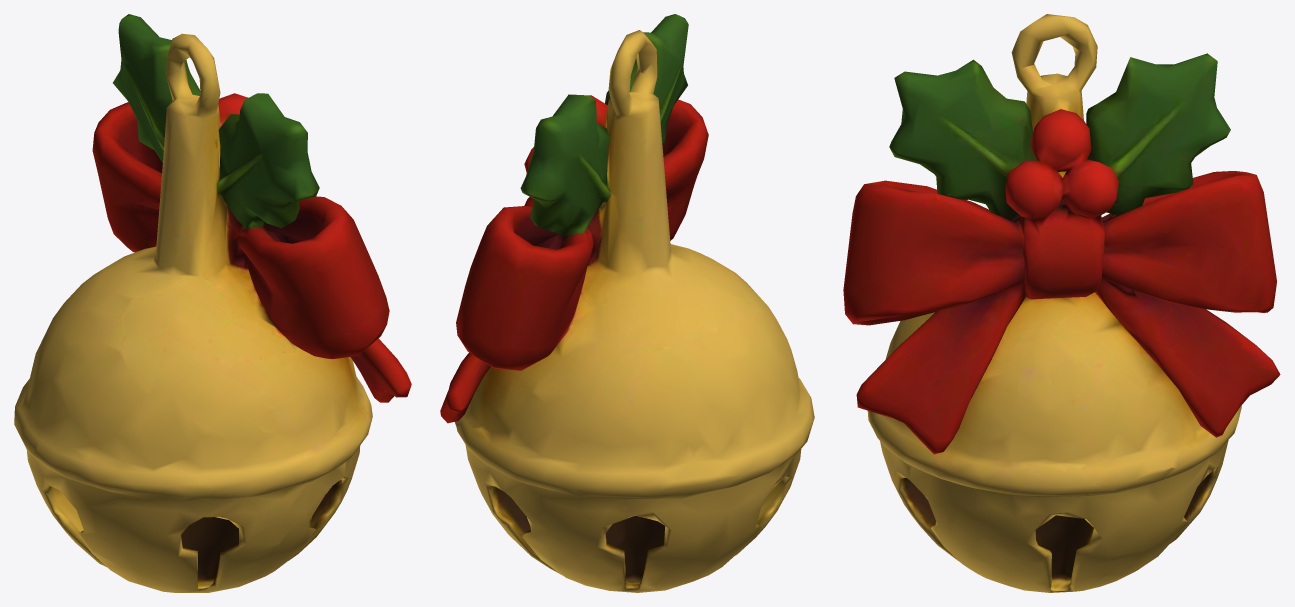
The model's file is orn_bell.glb.
The picture shows the model from 3 angles, left to right: view 1: azimuth 30°, elevation 25°; view 2: azimuth 150°, elevation 25°; view 3: azimuth 270°, elevation 25°; orthographic projection. The views are drawn at different scales.
Visible parts, largest first — view 1: tripo_node_b9253d87-ce50-4a22-a444-63e2242b7020; view 2: tripo_node_b9253d87-ce50-4a22-a444-63e2242b7020; view 3: tripo_node_b9253d87-ce50-4a22-a444-63e2242b7020.
Part boxes in pixels (x1,y1,x2,y2): tripo_node_b9253d87-ce50-4a22-a444-63e2242b7020: (14, 14, 411, 592); tripo_node_b9253d87-ce50-4a22-a444-63e2242b7020: (440, 14, 814, 592); tripo_node_b9253d87-ce50-4a22-a444-63e2242b7020: (843, 14, 1280, 592).
Bounding box in the file's own units: 0.6057 × 1 × 0.7062.
1 material, 1 textured.
